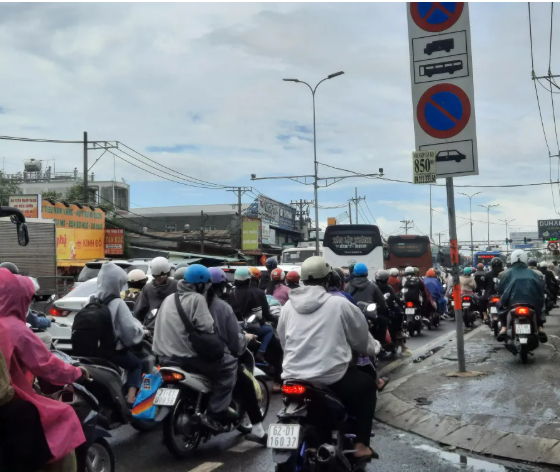Bien-so: (267, 422, 298, 450), (155, 386, 177, 407), (515, 323, 532, 335)
